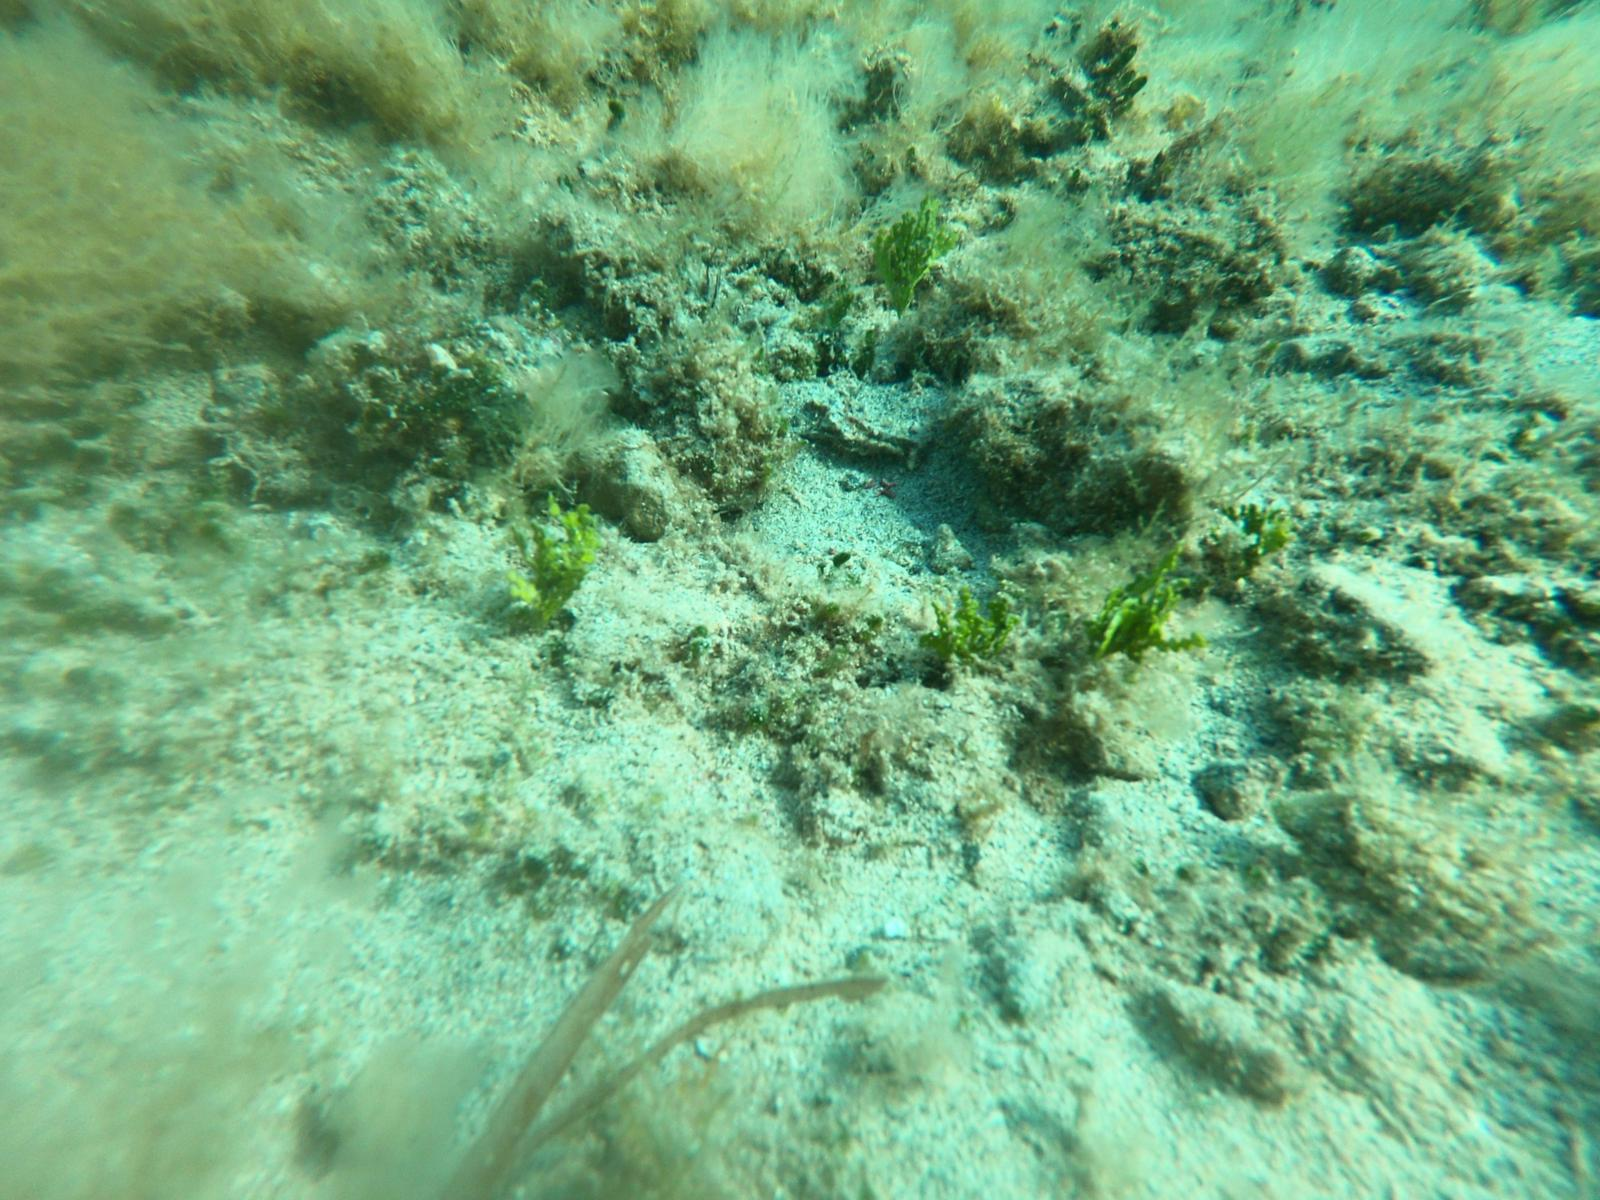halimeda: (503, 499, 597, 639), (1089, 550, 1197, 666), (869, 199, 955, 316), (930, 587, 1015, 658), (1226, 499, 1296, 579)
